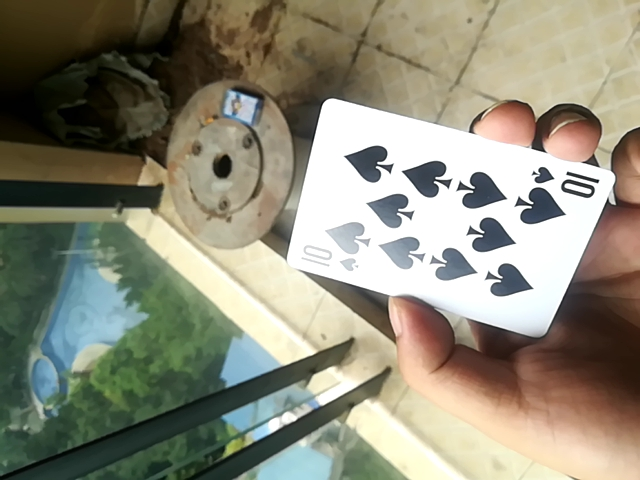ht 10: (281, 99, 620, 343)
